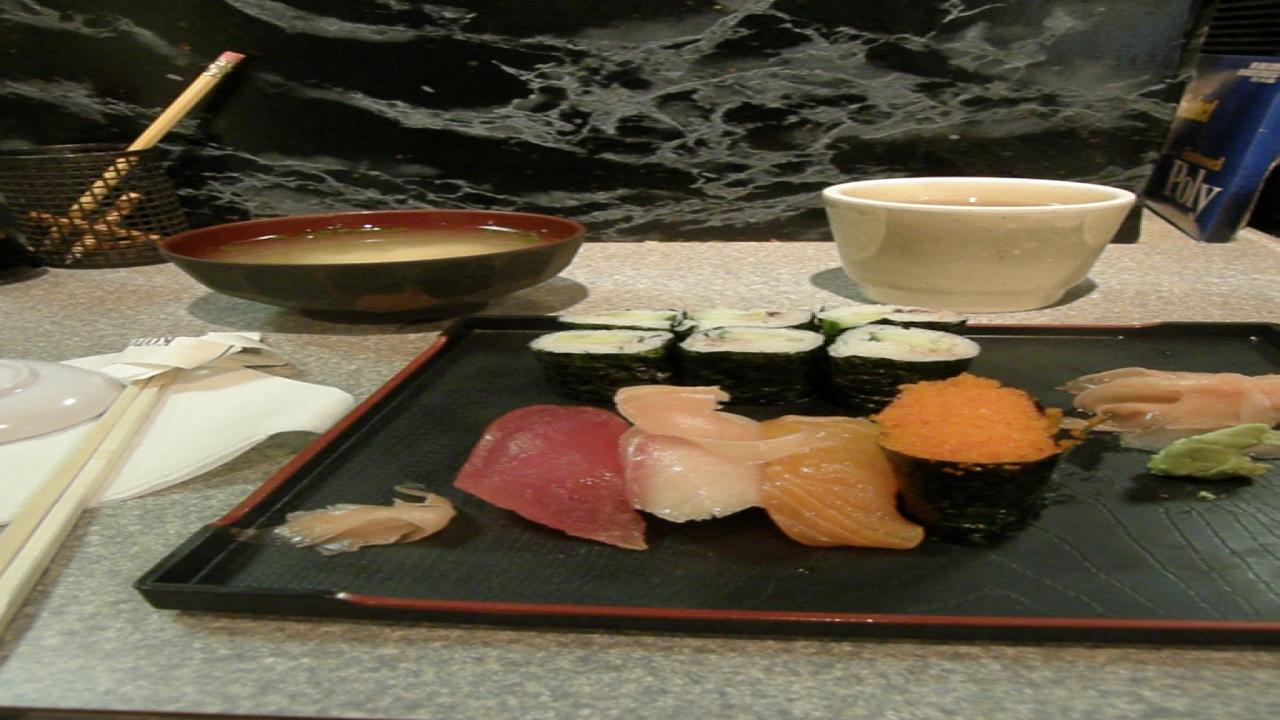chopstick: (0, 373, 178, 624), (32, 48, 240, 243)
